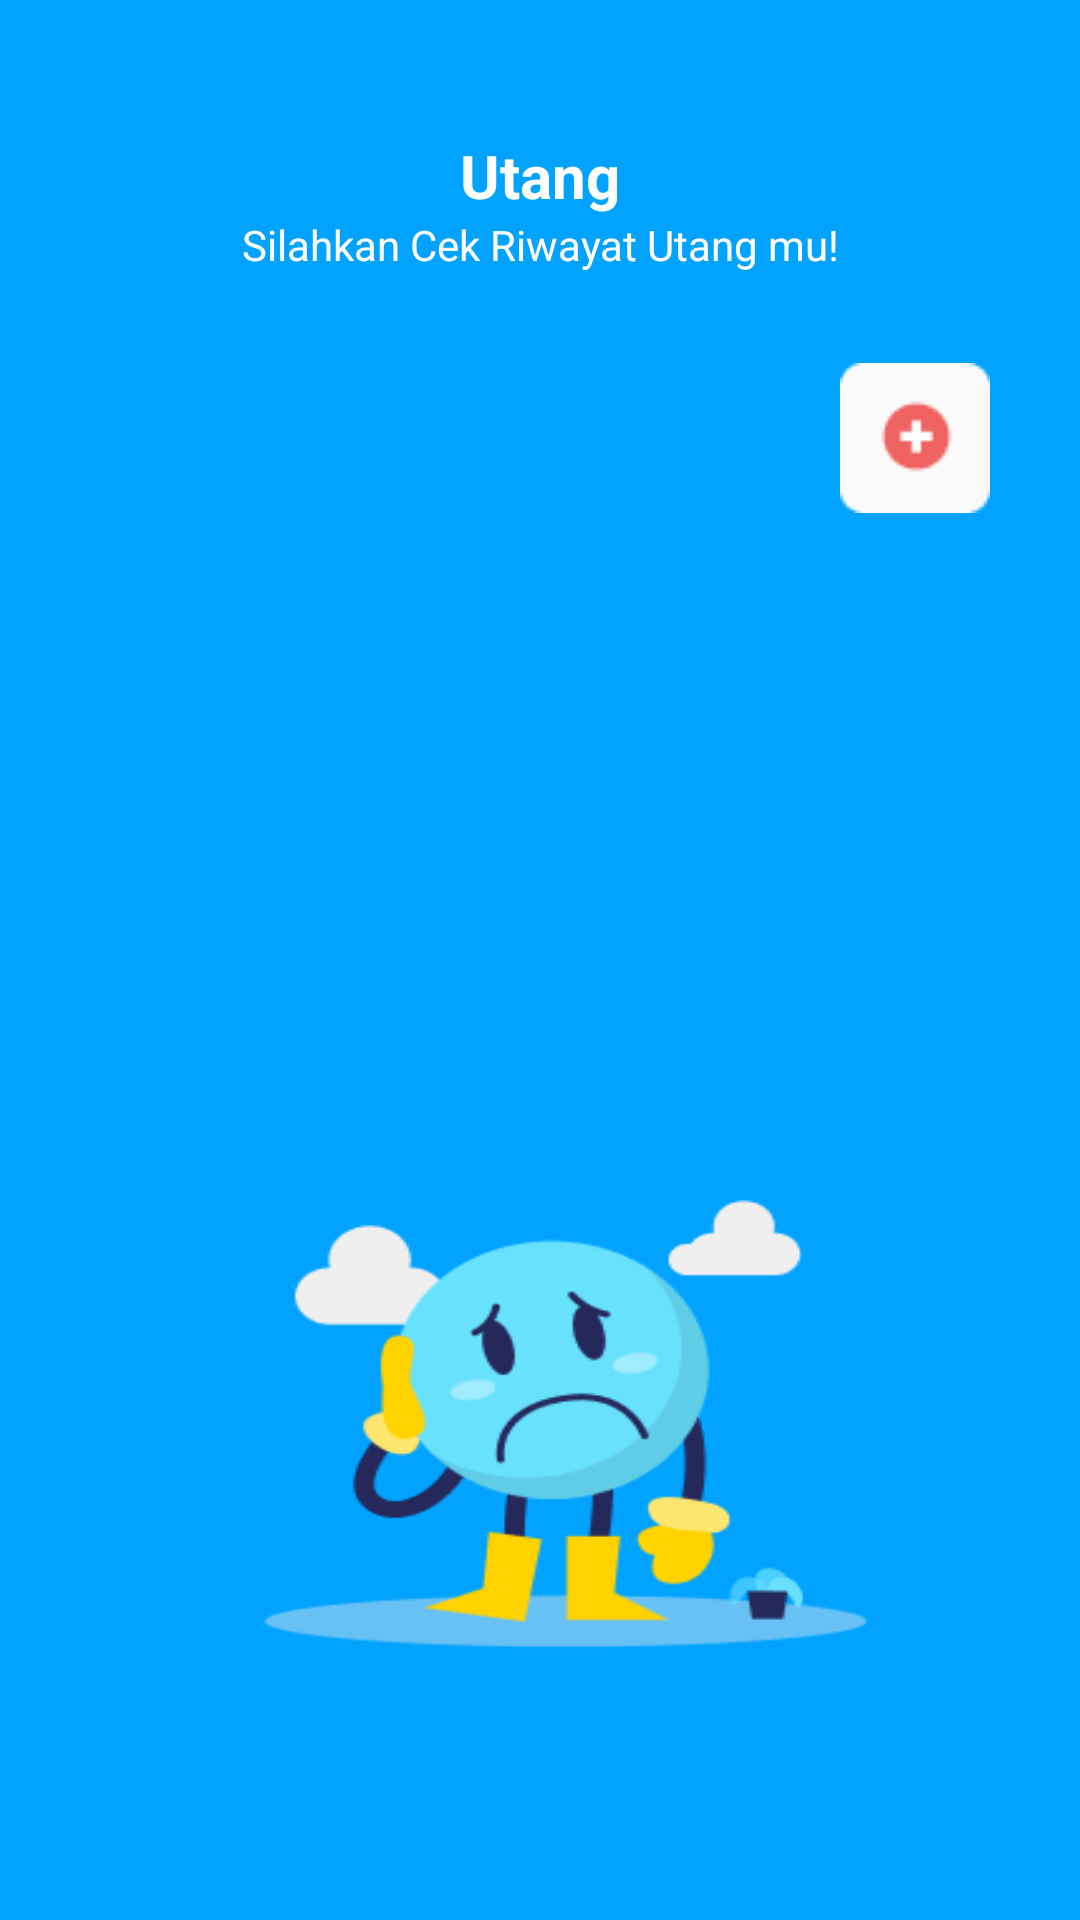

Named icons in this screenshot (1080×1920) and their centers, [x,y]:
add: [915,438]
